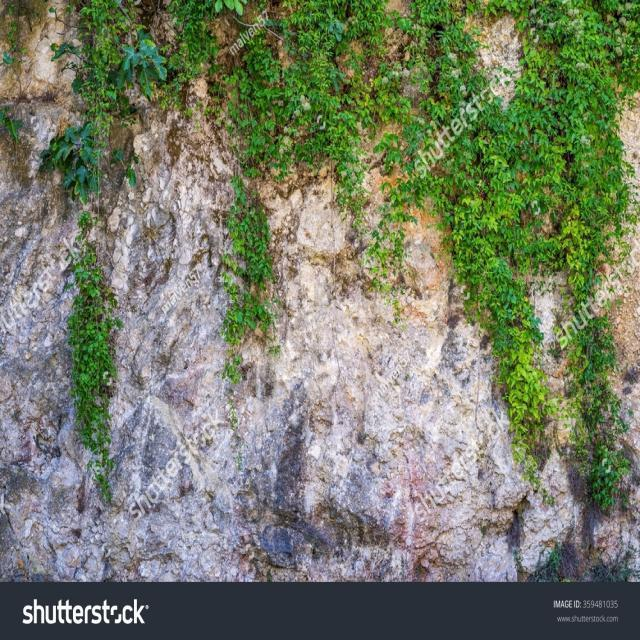vegetation: (63, 0, 640, 490)
